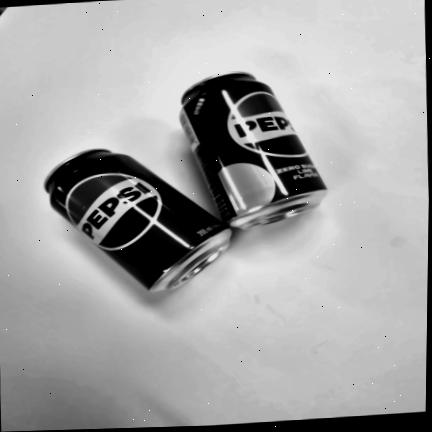can_pepsi: (45, 150, 231, 291)
can_pepsi_zero: (180, 72, 327, 229)
